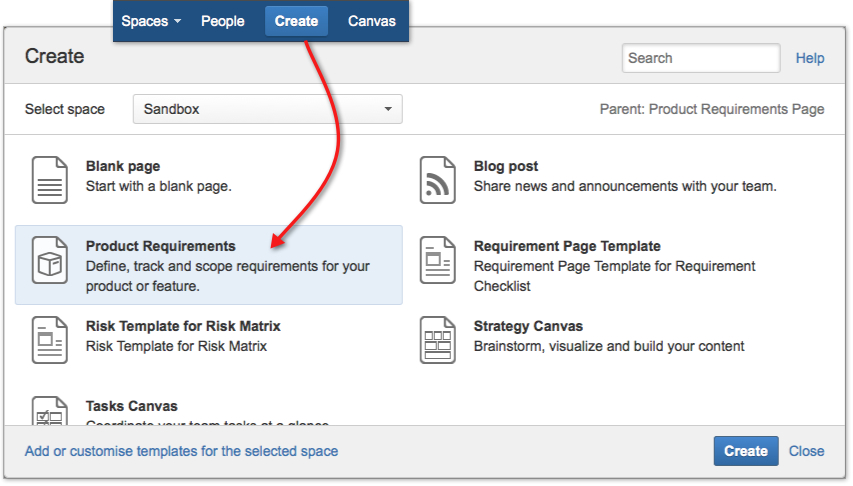button_create: (714, 433, 781, 469), (264, 5, 330, 40)
search_box: (624, 40, 784, 75)
